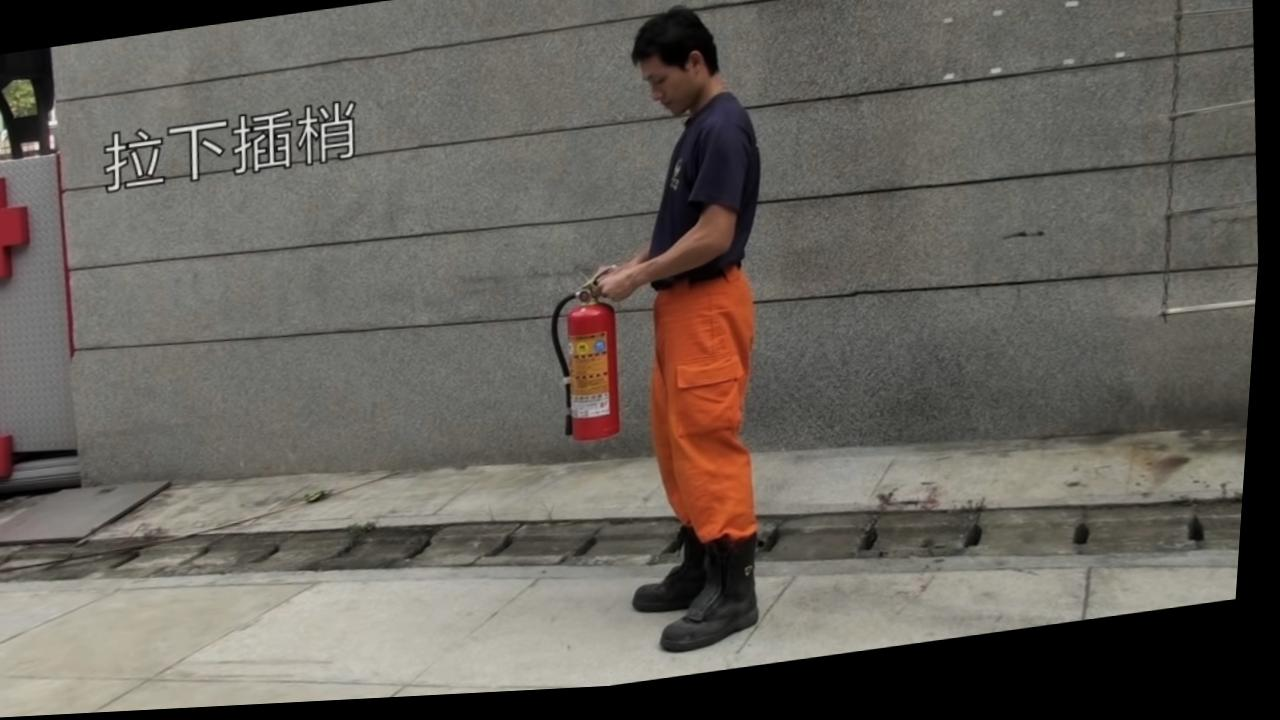FireExtinguisher: (538, 287, 647, 463)
